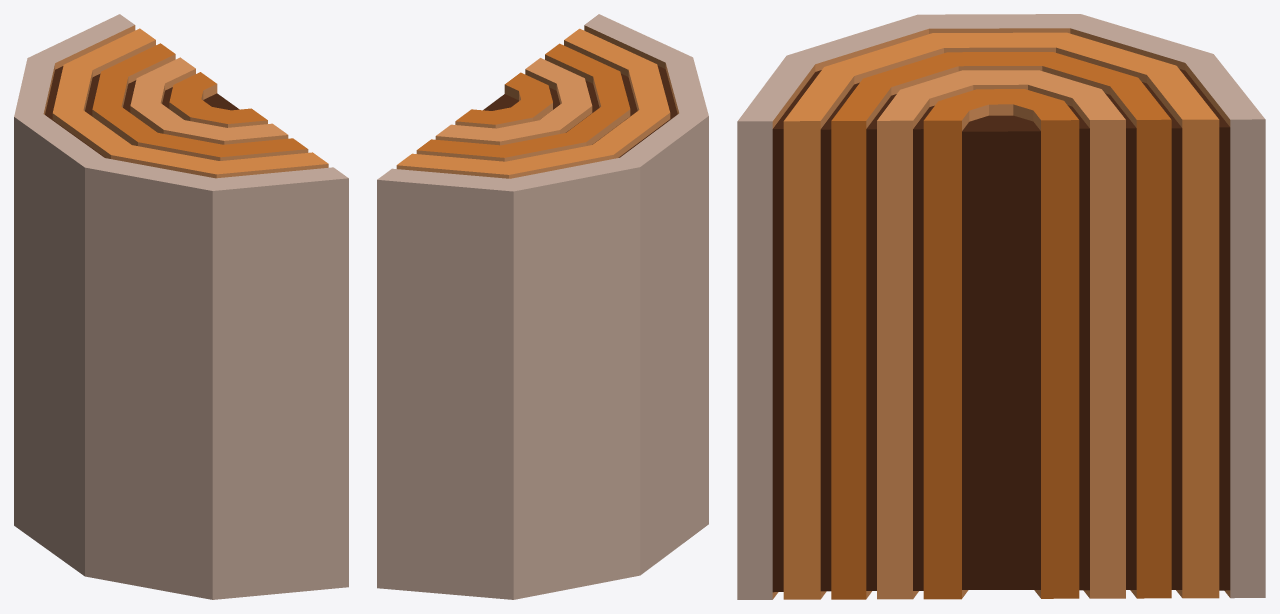
File: LogHalf.fbx
The picture shows the model from 3 angles, left to right: view 1: azimuth 30°, elevation 25°; view 2: azimuth 150°, elevation 25°; view 3: azimuth 270°, elevation 25°; orthographic projection. The views are drawn at different scales.
Visible parts, largest first — view 1: Cube.001; view 2: Cube.001; view 3: Cube.001.
Part boxes in pixels (x1=…): Cube.001: x1=14, y1=14, x2=348, y2=599; Cube.001: x1=377, y1=14, x2=708, y2=599; Cube.001: x1=737, y1=14, x2=1265, y2=599.
Size of the model in its own units: 96.24 by 200 by 200.
